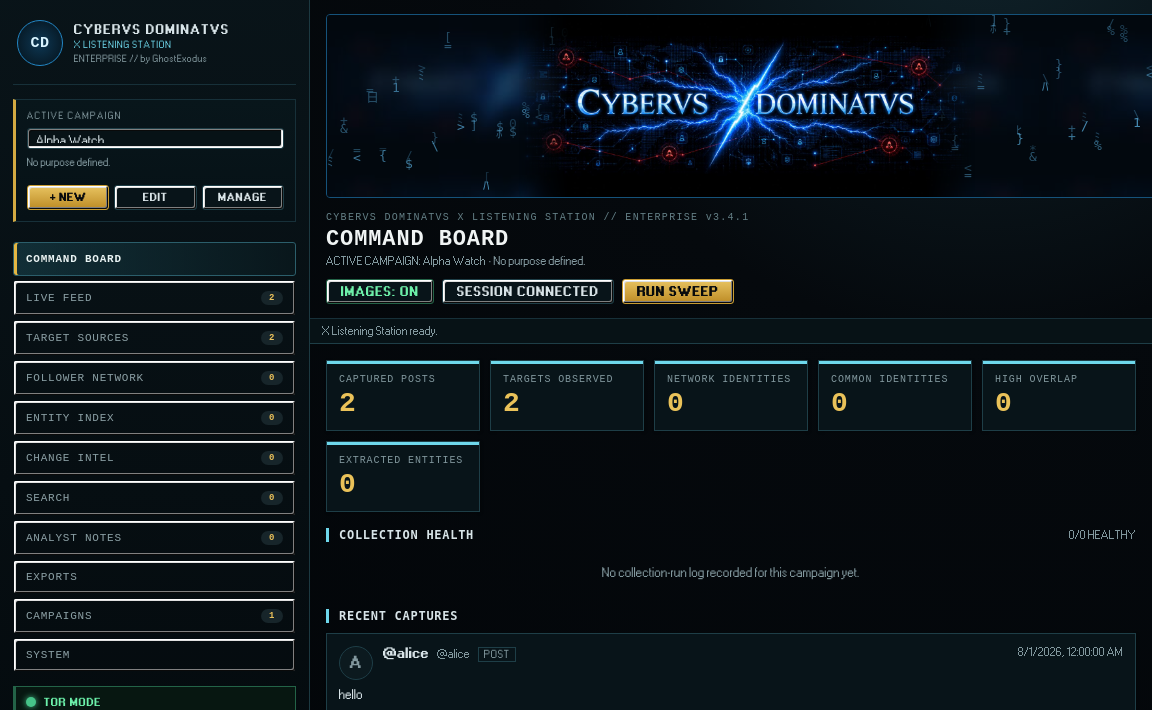
Scenario: X Listening Station — Target Sources per-source actions (Task D1) › each source renders a per-source action card (REFRESH / VIEW X / NETWORK / REMOVE)
Click the button with class "xls-tab" showing "TARGET SOURCES 2" at [78, 338], box [13, 320, 296, 356]
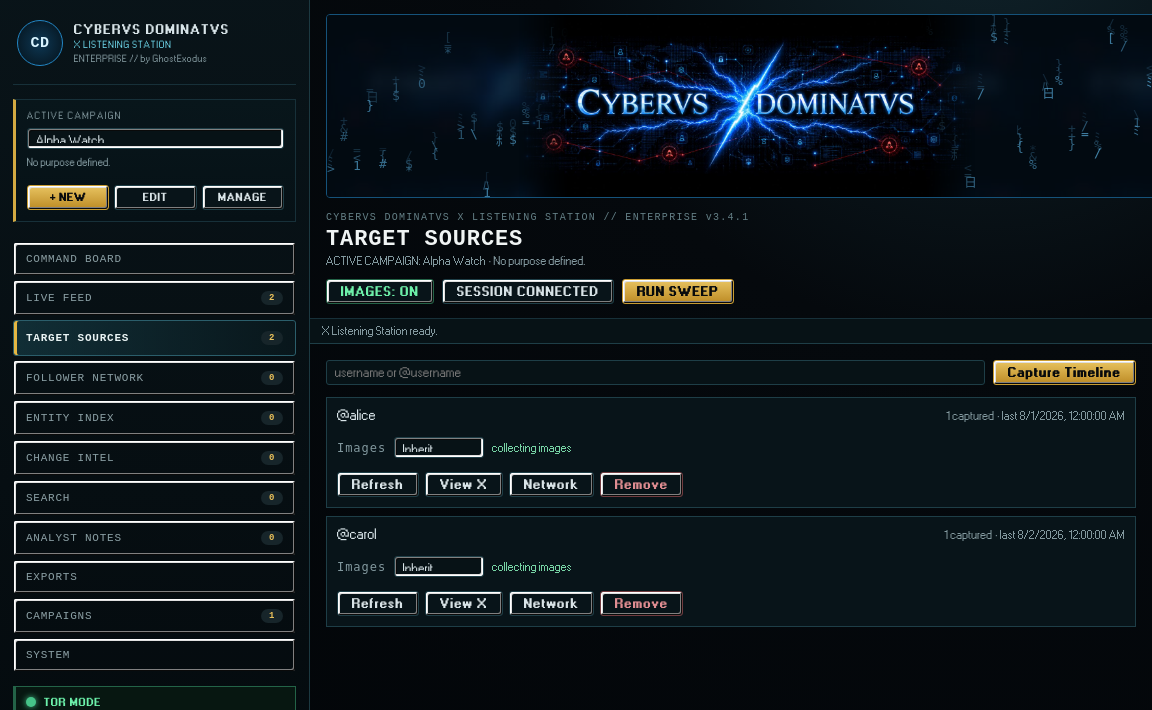
Check: the button "Refresh" below "@alice" is shown, box [337, 472, 419, 497]
Check: the button "View X" below "@alice" is shown, box [425, 472, 503, 497]
Check: the button "Network" below "@alice" is shown, box [509, 472, 594, 497]
